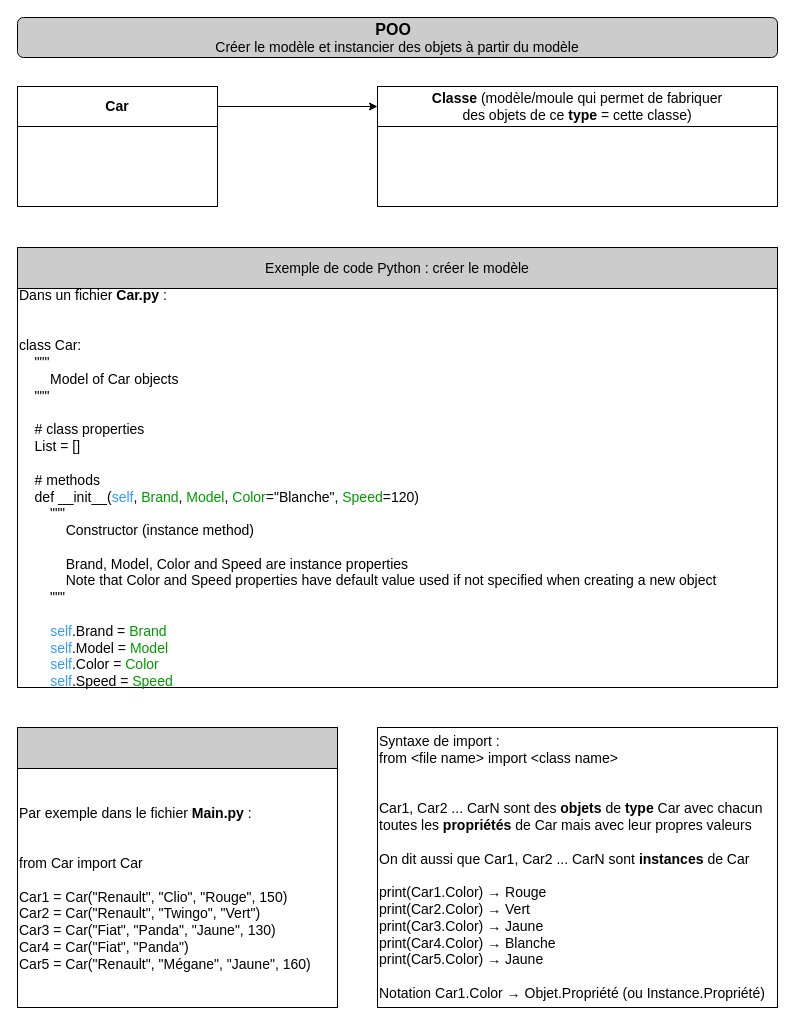
Some shapes in this 795 by 1025 pixel diagram are drawn without their labels. Here are the shapes that lost their labels. From the top down, the centre of each, then its label:
At (117,166): "Brand - string Model - string Color - string Speed - int ...".
At (577,166): "Propriétés d'instance présentes dans le constructeur (méthode __init__)".
At (177,747): "Exemple de code Python : créer des instances".
